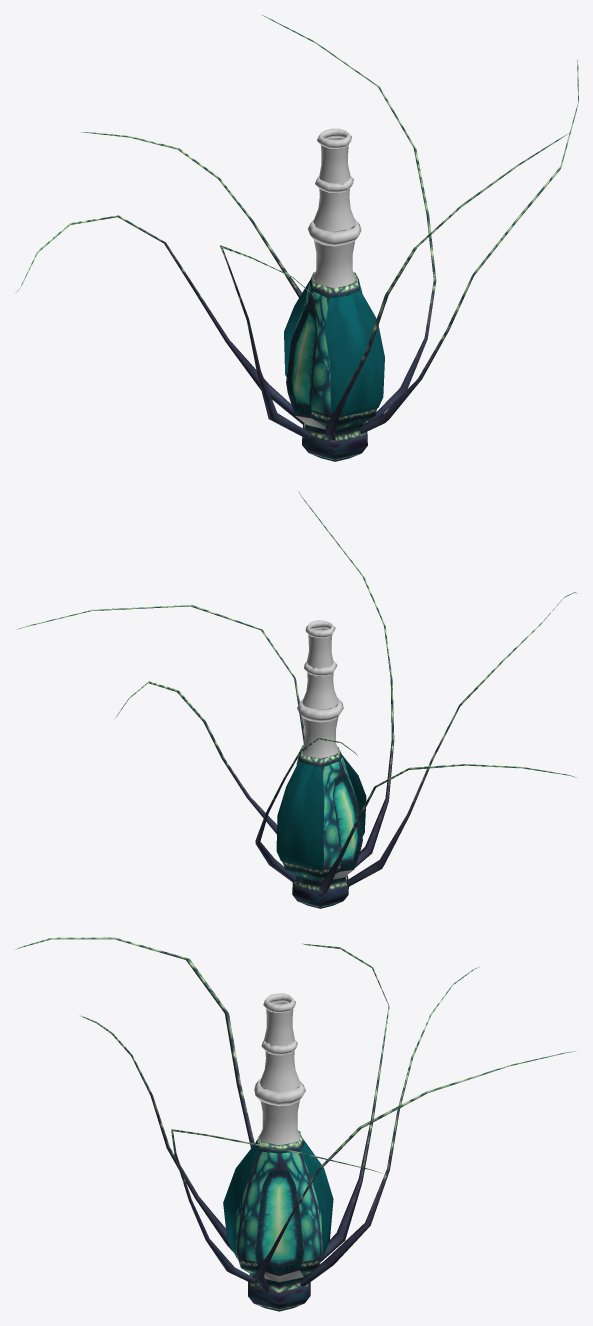
The model's file is Bio_weapon_01_c.fbx.
3 renders of one model, top to bottom at view 1: azimuth 30°, elevation 25°; view 2: azimuth 150°, elevation 25°; view 3: azimuth 270°, elevation 25°, orthographic. The views are drawn at different scales.
Visible parts, largest first — view 1: Bio_weapon_01_a.001; view 2: Bio_weapon_01_a.001; view 3: Bio_weapon_01_a.001.
Part boxes in pixels (bbox=[...]): Bio_weapon_01_a.001: bbox=[16, 15, 578, 461]; Bio_weapon_01_a.001: bbox=[17, 491, 577, 908]; Bio_weapon_01_a.001: bbox=[15, 937, 575, 1311].
Bounding box in the file's own units: 10.38 × 6 × 8.75.
